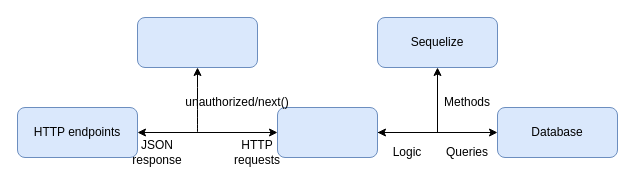
Some shapes in this 635 by 185 pixel diagram are drawn without their labels. Each missing label, with the centre of its shape:
Controllers: [327,132]
Middlewares: [197,42]
